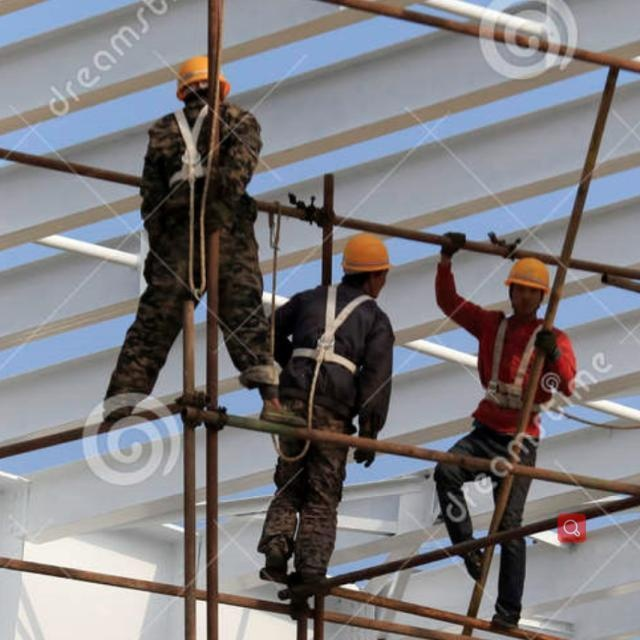Arnes_seguridad: (286, 278, 381, 379), (480, 308, 552, 412), (157, 100, 226, 186)
